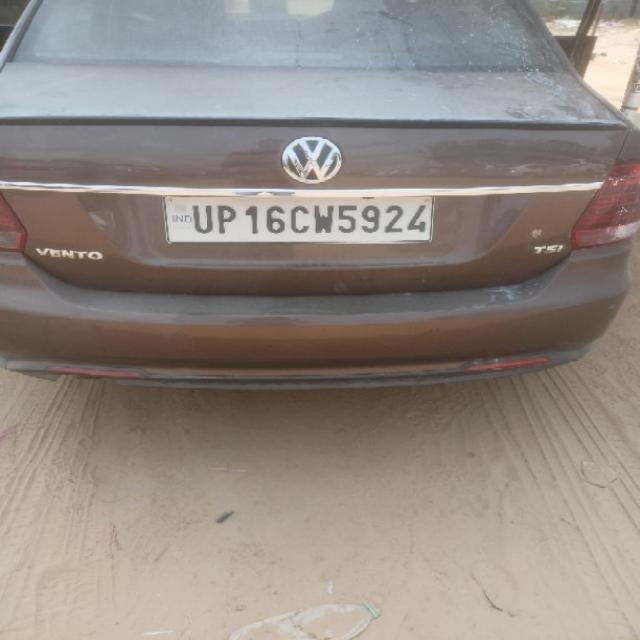license_plate: (161, 194, 434, 244)
